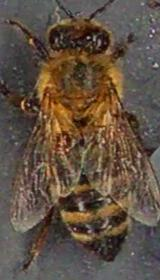varroa_mite: (45, 128, 82, 153)
